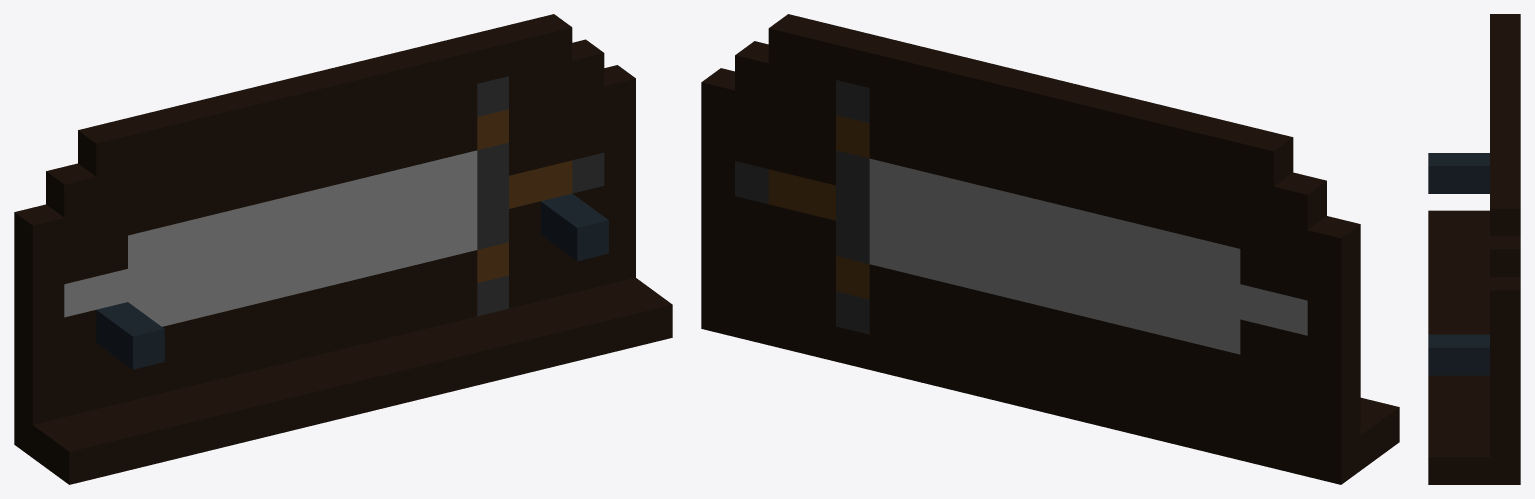
Rendered from sword_rack_1.obj.
The picture shows the model from 3 angles, left to right: view 1: azimuth 30°, elevation 25°; view 2: azimuth 150°, elevation 25°; view 3: azimuth 270°, elevation 25°; orthographic projection. The views are drawn at different scales.
Size of the model in its own units: 1.9 by 0.9 by 0.3.
1 material, 1 textured.
